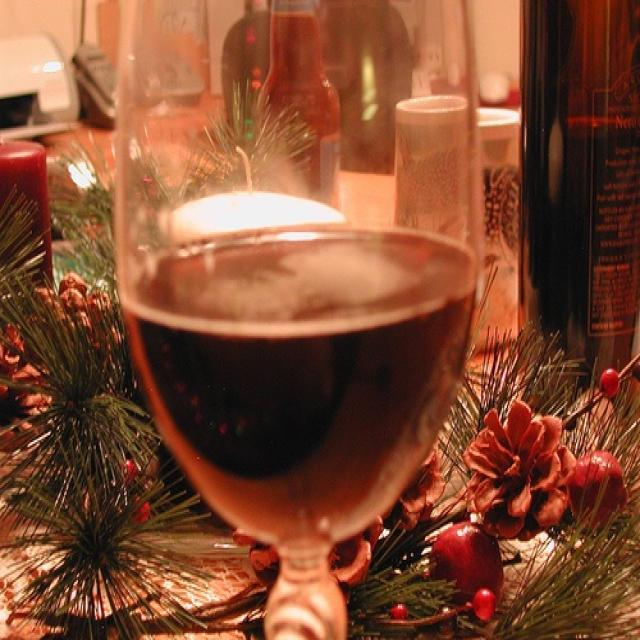bottle: (517, 0, 639, 386), (253, 0, 339, 217)
